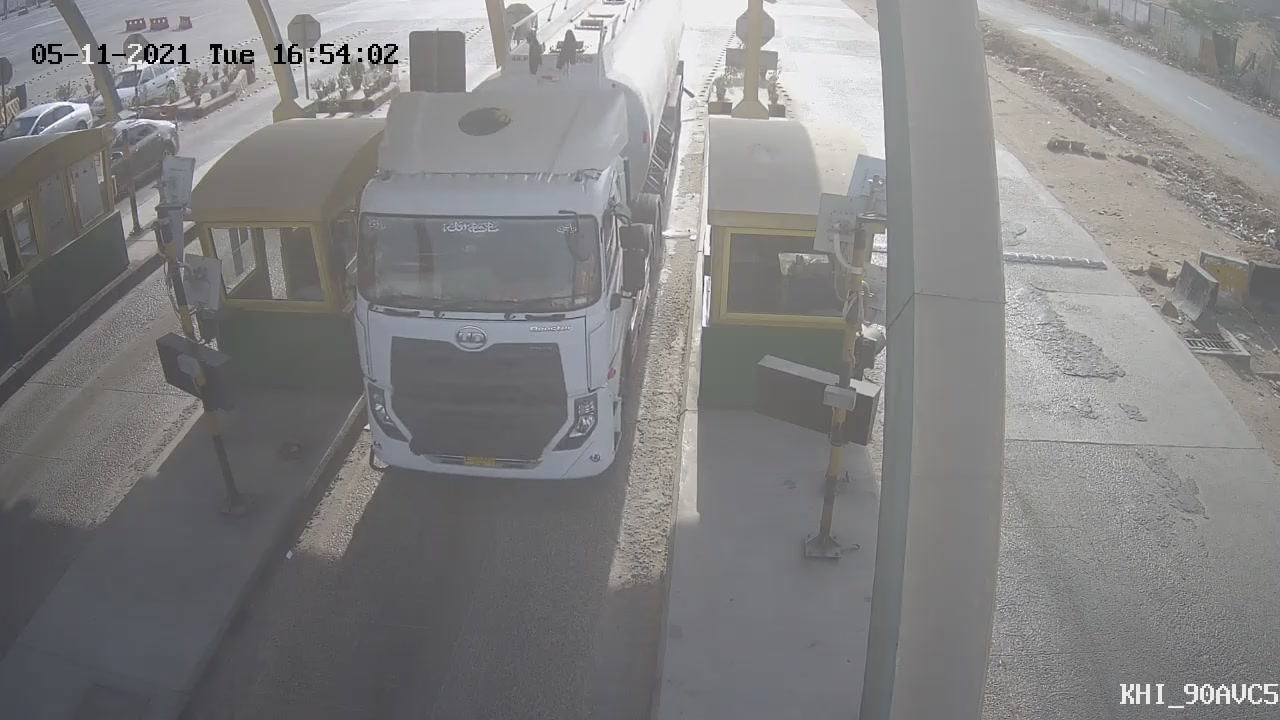F6: (318, 4, 705, 504)
